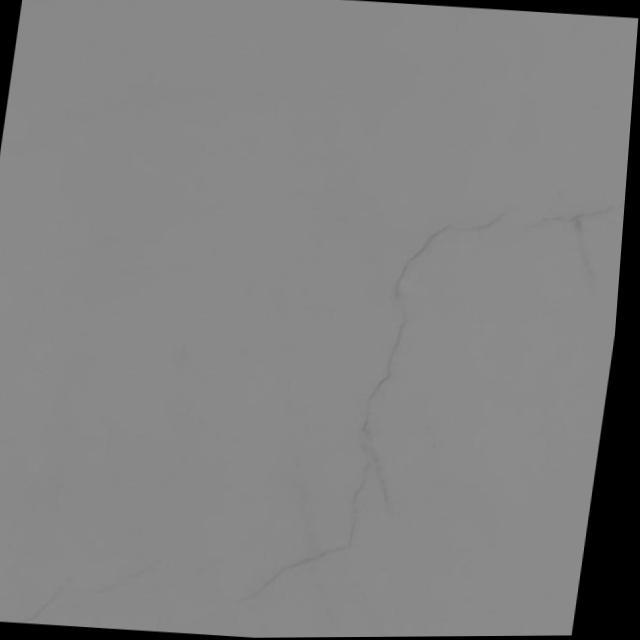Crack: (243, 197, 513, 601)
